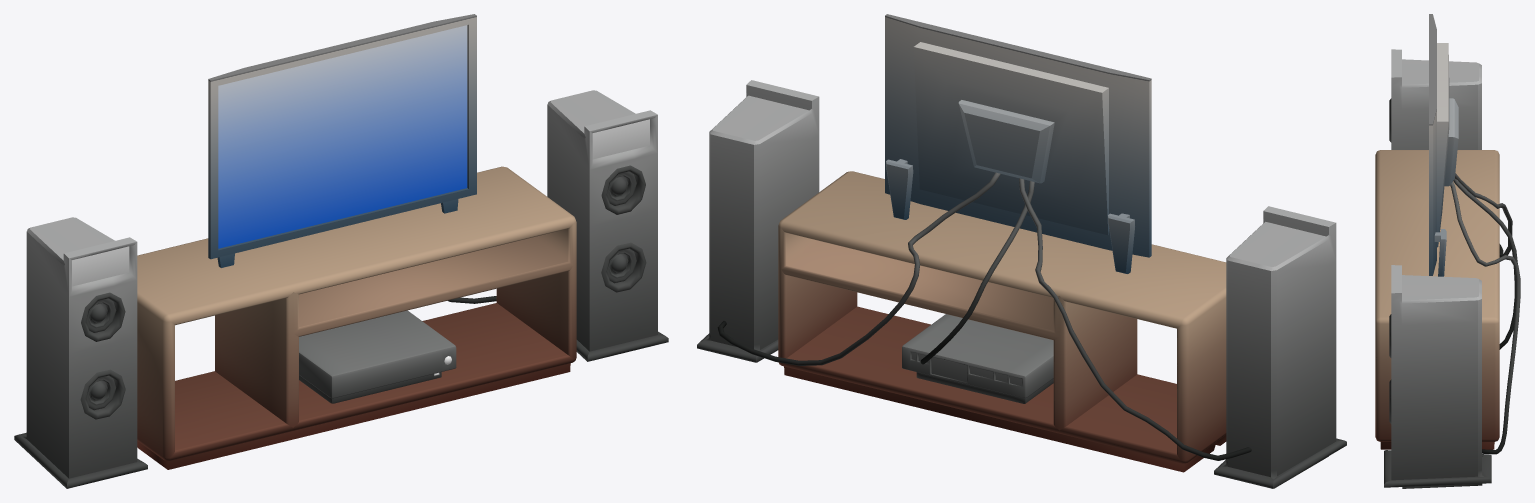
The model's file is TV_Set.fbx.
The picture shows the model from 3 angles, left to right: view 1: azimuth 30°, elevation 25°; view 2: azimuth 150°, elevation 25°; view 3: azimuth 270°, elevation 25°; orthographic projection. The views are drawn at different scales.
Visible parts, largest first — view 1: TV_Table, TV, Speaker_2, Speaker_1, Game_Console; view 2: TV_Table, TV, Speaker_2, Speaker_1, Game_Console, Speaker_1_Cable, Speaker_2_Cable, Game_Console_Cable; view 3: Speaker_1, TV_Table, Speaker_2, TV, Speaker_1_Cable, Game_Console_Cable, Speaker_2_Cable.
Boxes of the visible parts, x1,y1,x2,y2 form: TV_Table: (137,166,576,469); TV: (208,14,476,267); Speaker_2: (14,217,147,488); Speaker_1: (547,90,668,361); Game_Console: (299,310,456,403); TV_Table: (778,171,1226,472); TV: (885,14,1151,273); Speaker_2: (1214,206,1346,488); Speaker_1: (697,80,819,362); Game_Console: (902,314,1053,403); Speaker_1_Cable: (717,172,1000,365); Speaker_2_Cable: (1019,178,1251,460); Game_Console_Cable: (920,181,1034,364); Speaker_1: (1384,265,1491,488); TV_Table: (1375,150,1499,449); Speaker_2: (1389,49,1481,149); TV: (1429,14,1458,276); Speaker_1_Cable: (1450,182,1520,454); Game_Console_Cable: (1453,179,1517,349); Speaker_2_Cable: (1455,173,1512,257).
Size of the model in its own units: 3.62 by 2.03 by 0.8921.
